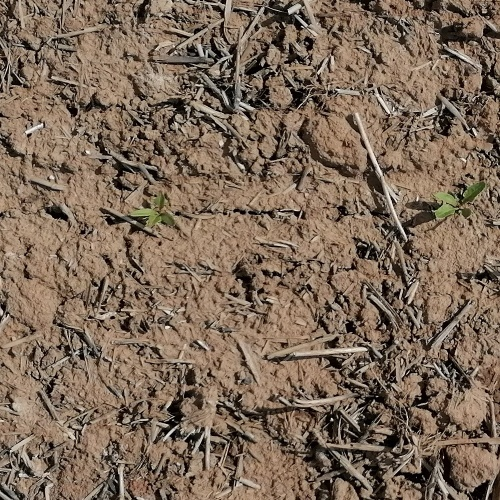beet: (429, 182, 485, 219), (130, 191, 176, 230)
